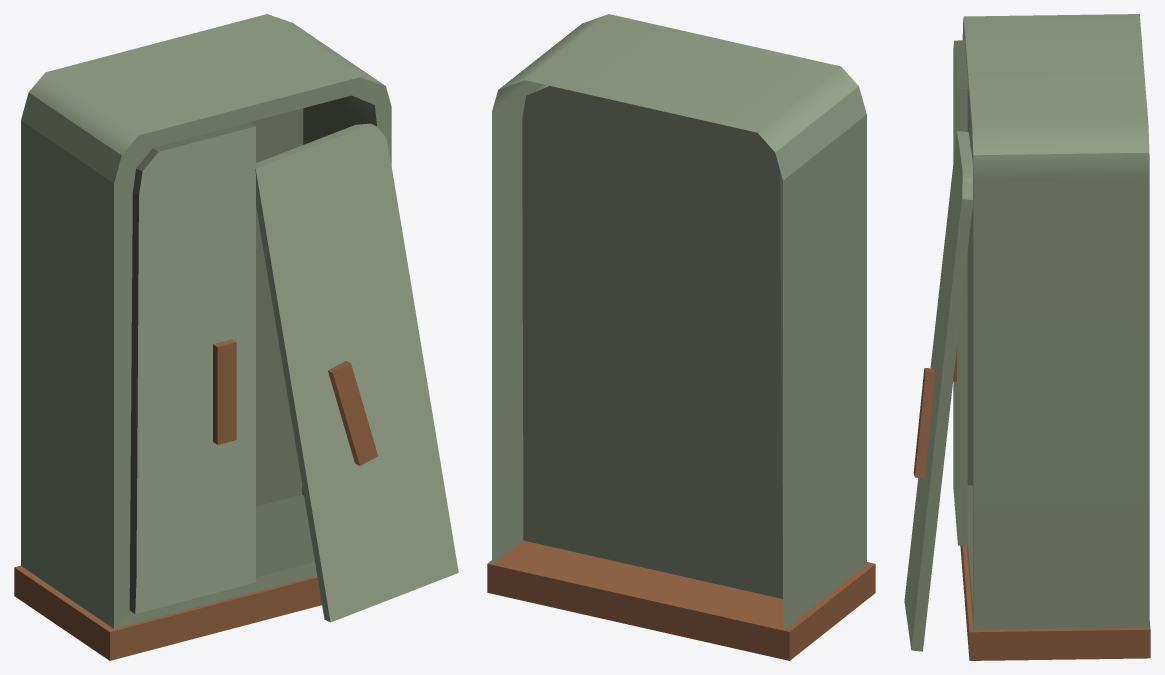
Rendered from MSH_QuestObject_container_02.fbx.
3 renders of one model, left to right at view 1: azimuth 30°, elevation 25°; view 2: azimuth 150°, elevation 25°; view 3: azimuth 270°, elevation 25°, orthographic.
Visible parts, largest first — view 1: MSH_QuestObject_container_02; view 2: MSH_QuestObject_container_02; view 3: MSH_QuestObject_container_02.
Boxes of the visible parts, x1,y1,x2,y2 form: MSH_QuestObject_container_02: [14, 14, 458, 660]; MSH_QuestObject_container_02: [487, 14, 875, 660]; MSH_QuestObject_container_02: [904, 14, 1150, 660].
Bounding box in the file's own units: 1.87 × 2.78 × 1.2.
